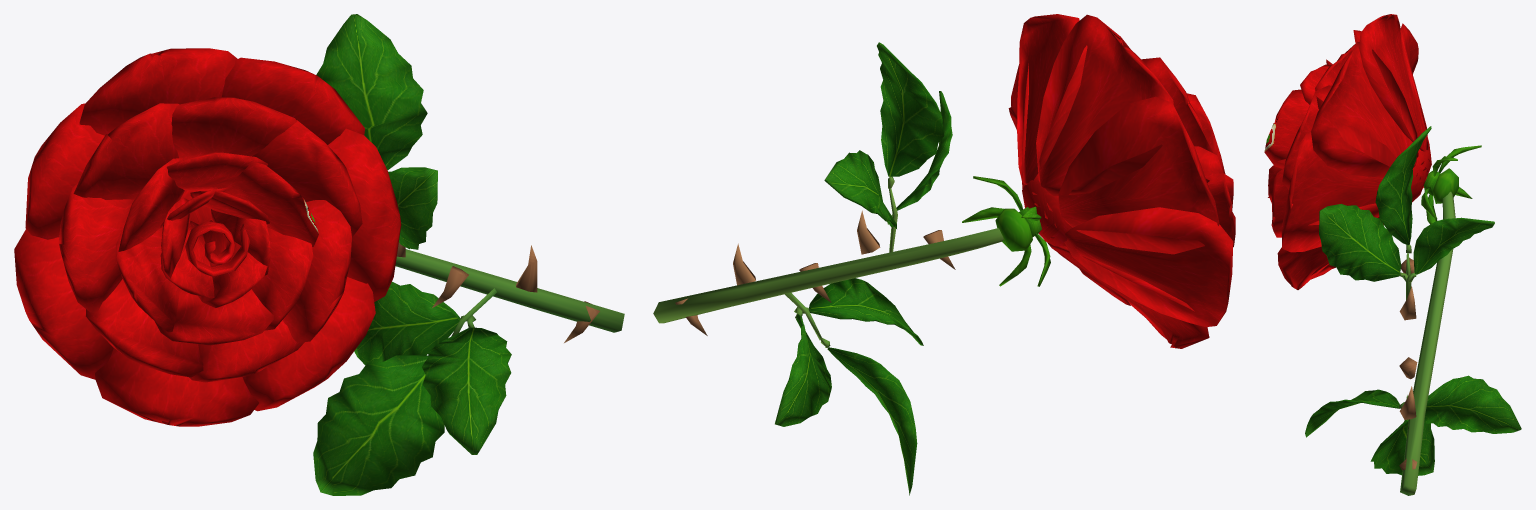
File: NP_Rose_Harvest_LOD1.fbx
The picture shows the model from 3 angles, left to right: view 1: azimuth 30°, elevation 25°; view 2: azimuth 150°, elevation 25°; view 3: azimuth 270°, elevation 25°; orthographic projection. The views are drawn at different scales.
Parts seen in each view (by area): view 1: NP_Rose_Harvest; view 2: NP_Rose_Harvest; view 3: NP_Rose_Harvest.
Part boxes in pixels (x1,y1,x2,y2): NP_Rose_Harvest: (14,14,624,495); NP_Rose_Harvest: (653,14,1235,495); NP_Rose_Harvest: (1264,14,1521,495).
Bounding box in the file's own units: 49.94 × 40.25 × 24.05.
